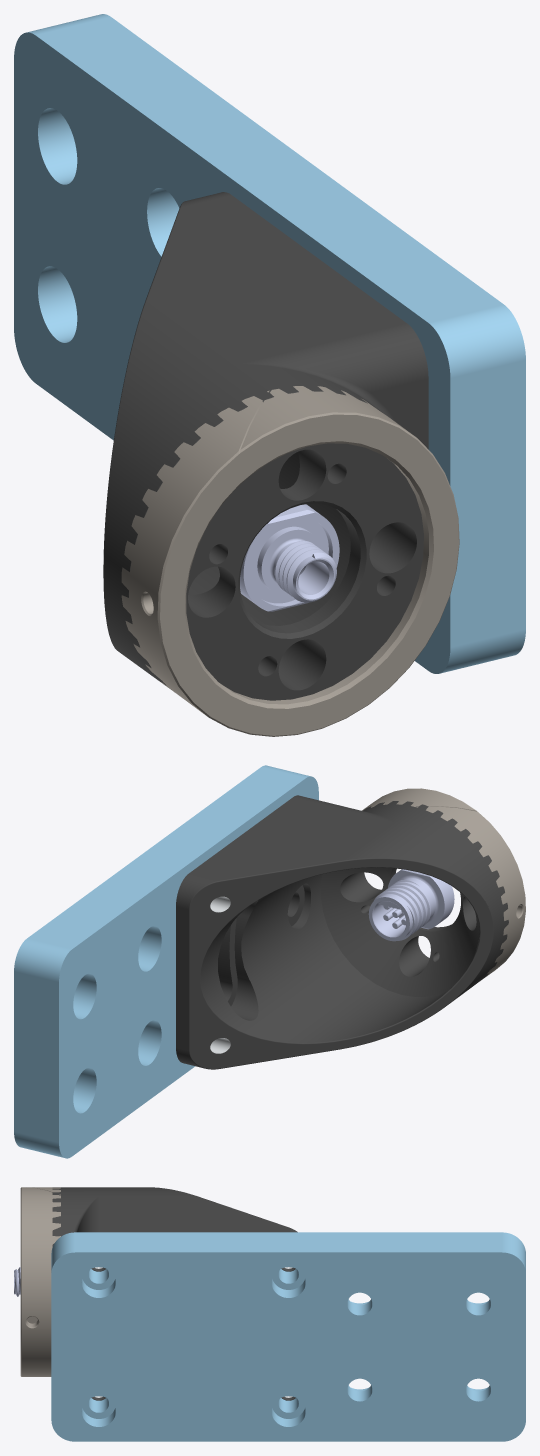
File: soporte_alpha.dae
The picture shows the model from 3 angles, top to bottom: view 1: azimuth 30°, elevation 25°; view 2: azimuth 150°, elevation 25°; view 3: azimuth 270°, elevation 25°; orthographic projection. The views are drawn at different scales.
Parts seen in each view (by area): view 1: soporte_alpha, RS1-182, RS1-181, IE55-1200-BCR; view 2: RS1-182, soporte_alpha, RS1-181, IE55-1200-BCR; view 3: soporte_alpha, RS1-182, RS1-181.
Part boxes in pixels (x1=…): soporte_alpha: x1=14, y1=14, x2=525, y2=673; RS1-182: x1=103, y1=192, x2=428, y2=700; RS1-181: x1=121, y1=386, x2=459, y2=736; IE55-1200-BCR: x1=240, y1=504, x2=339, y2=611; RS1-182: x1=176, y1=795, x2=508, y2=1069; soporte_alpha: x1=14, y1=765, x2=318, y2=1158; RS1-181: x1=362, y1=788, x2=525, y2=981; IE55-1200-BCR: x1=368, y1=869, x2=454, y2=941; soporte_alpha: x1=51, y1=1232, x2=525, y2=1441; RS1-182: x1=52, y1=1187, x2=297, y2=1400; RS1-181: x1=20, y1=1187, x2=60, y2=1376.
Size of the model in its own units: 0.0524 by 0.1079 by 0.044.
